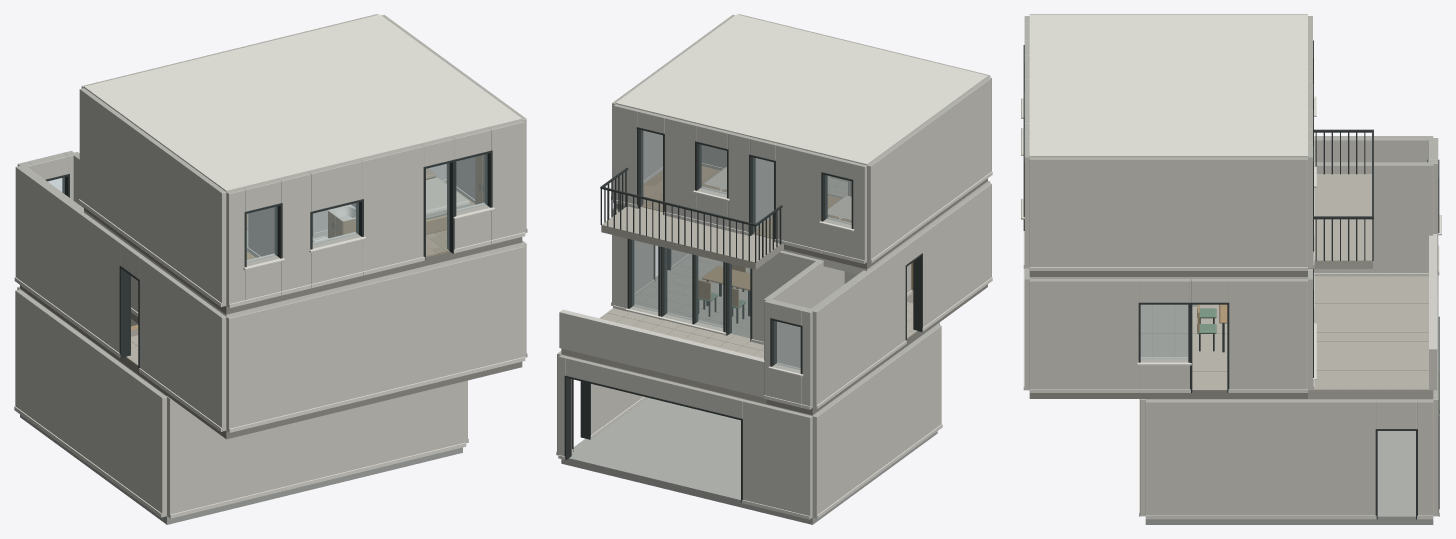
3 renders of one model, left to right at view 1: azimuth 30°, elevation 25°; view 2: azimuth 150°, elevation 25°; view 3: azimuth 270°, elevation 25°, orthographic. The views are drawn at different scales.
Parts seen in each view (by area): view 1: UpperCeiling_0_0, GroundBack_00_00, GarageBack_00_00, GarageLeft_00_00, UpperLeft_00_00, GroundLeft_00_00, GroundLeft_02_00, UpperBack_04_00, UpperBack_08_00, UpperBack_02_00, GarageSlab_0_0, UpperBack_00_00 (+26 smaller); view 2: UpperCeiling_0_0, GarageLeft_00_00, GarageSlab_0_0, UpperLeft_00_00, GroundLeft_00_00, Terrace_Parapet_Front, GarageFront_00_00, GroundLeft_02_00, BalconySlab_0_0, UpperFront_02_00, GarageFront_01_01, GroundFront_Opening_1_Glass (+38 smaller); view 3: UpperCeiling_0_0, UpperRight_00_00, GarageRight_02_00, GroundRight_04_00, GroundRight_00_00, GroundStairFrontRight_00_00, BalconySlab_0_0, GarageSlab_0_0, GroundLeft_00_00, GroundRight_Opening_1_Glass, GarageRight_00_00, GroundMainSlab_2_2 (+17 smaller).
Boxes of the visible parts, <box> form: UpperCeiling_0_0: <box>84,14,522,191</box>; GroundBack_00_00: <box>226,245,524,431</box>; GarageBack_00_00: <box>167,381,465,517</box>; GarageLeft_00_00: <box>15,289,166,517</box>; UpperLeft_00_00: <box>79,88,226,306</box>; GroundLeft_00_00: <box>15,165,124,352</box>; GroundLeft_02_00: <box>139,257,226,431</box>; UpperBack_04_00: <box>360,144,424,271</box>; UpperBack_08_00: <box>489,120,524,239</box>; UpperBack_02_00: <box>279,172,310,291</box>; GarageSlab_0_0: <box>20,414,462,524</box>; UpperBack_00_00: <box>226,188,245,307</box>; UpperCeiling_0_0: <box>615,14,987,165</box>; GarageLeft_00_00: <box>812,324,941,518</box>; GarageSlab_0_0: <box>561,397,937,524</box>; UpperLeft_00_00: <box>867,77,991,262</box>; GroundLeft_00_00: <box>809,246,905,408</box>; Terrace_Parapet_Front: <box>559,309,764,397</box>; GarageFront_00_00: <box>742,399,812,518</box>; GroundLeft_02_00: <box>918,183,991,327</box>; BalconySlab_0_0: <box>601,206,783,269</box>; UpperFront_02_00: <box>775,143,823,249</box>; GarageFront_01_01: <box>566,356,744,418</box>; GroundFront_Opening_1_Glass: <box>665,248,722,327</box>; UpperCeiling_0_0: <box>1029,14,1307,157</box>; UpperRight_00_00: <box>1029,157,1307,266</box>; GarageRight_02_00: <box>1145,399,1376,515</box>; GroundRight_04_00: <box>1029,279,1139,388</box>; GroundRight_00_00: <box>1228,279,1307,388</box>; GroundStairFrontRight_00_00: <box>1314,162,1433,272</box>; BalconySlab_0_0: <box>1308,174,1372,268</box>; GarageSlab_0_0: <box>1145,431,1433,524</box>; GroundLeft_00_00: <box>1314,136,1433,162</box>; GroundRight_Opening_1_Glass: <box>1141,305,1187,358</box>; GarageRight_00_00: <box>1417,399,1433,515</box>; GroundMainSlab_2_2: <box>1029,305,1277,398</box>.
Size of the model in its own units: 7.53 by 8.78 by 9.07.
